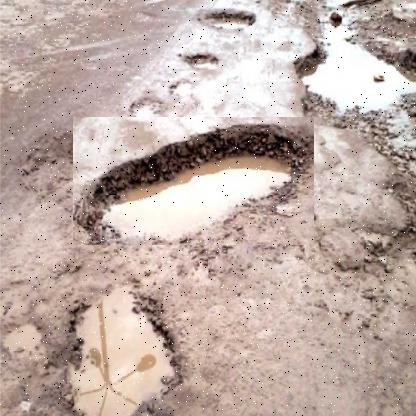pothole_water: (73, 117, 315, 246), (50, 280, 189, 415), (282, 21, 416, 130)
